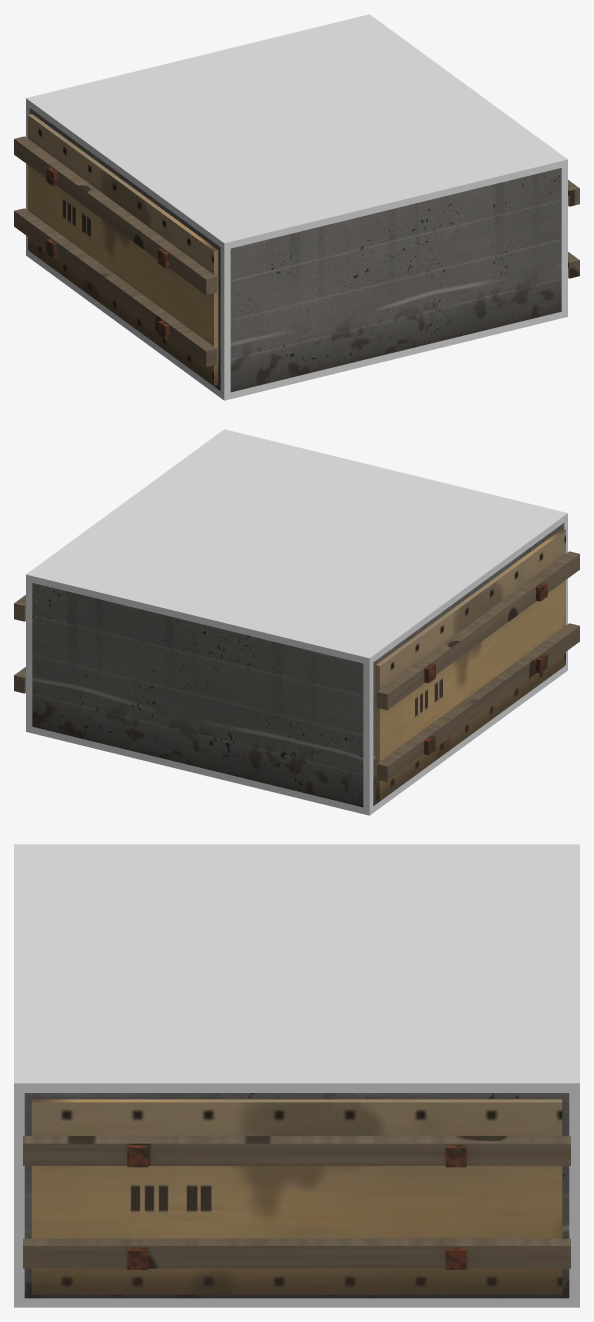
File: Kit_Lot_Footing_01.glb
The picture shows the model from 3 angles, top to bottom: view 1: azimuth 30°, elevation 25°; view 2: azimuth 150°, elevation 25°; view 3: azimuth 270°, elevation 25°; orthographic projection. The views are drawn at different scales.
Parts seen in each view (by area): view 1: COL_Kit_Lot_Footing_01_0, Kit_Lot_Footing_01_LOD0; view 2: COL_Kit_Lot_Footing_01_0, Kit_Lot_Footing_01_LOD0; view 3: COL_Kit_Lot_Footing_01_0, Kit_Lot_Footing_01_LOD0.
Boxes of the visible parts, bbox=[...] form: COL_Kit_Lot_Footing_01_0: bbox=[26, 14, 567, 400]; Kit_Lot_Footing_01_LOD0: bbox=[14, 108, 579, 392]; COL_Kit_Lot_Footing_01_0: bbox=[26, 429, 567, 815]; Kit_Lot_Footing_01_LOD0: bbox=[14, 523, 579, 807]; COL_Kit_Lot_Footing_01_0: bbox=[14, 844, 579, 1307]; Kit_Lot_Footing_01_LOD0: bbox=[23, 1093, 570, 1298].
Size of what is drawn, in the model's own units: 3.56 by 1.4 by 3.2.
1 material, 1 textured.
